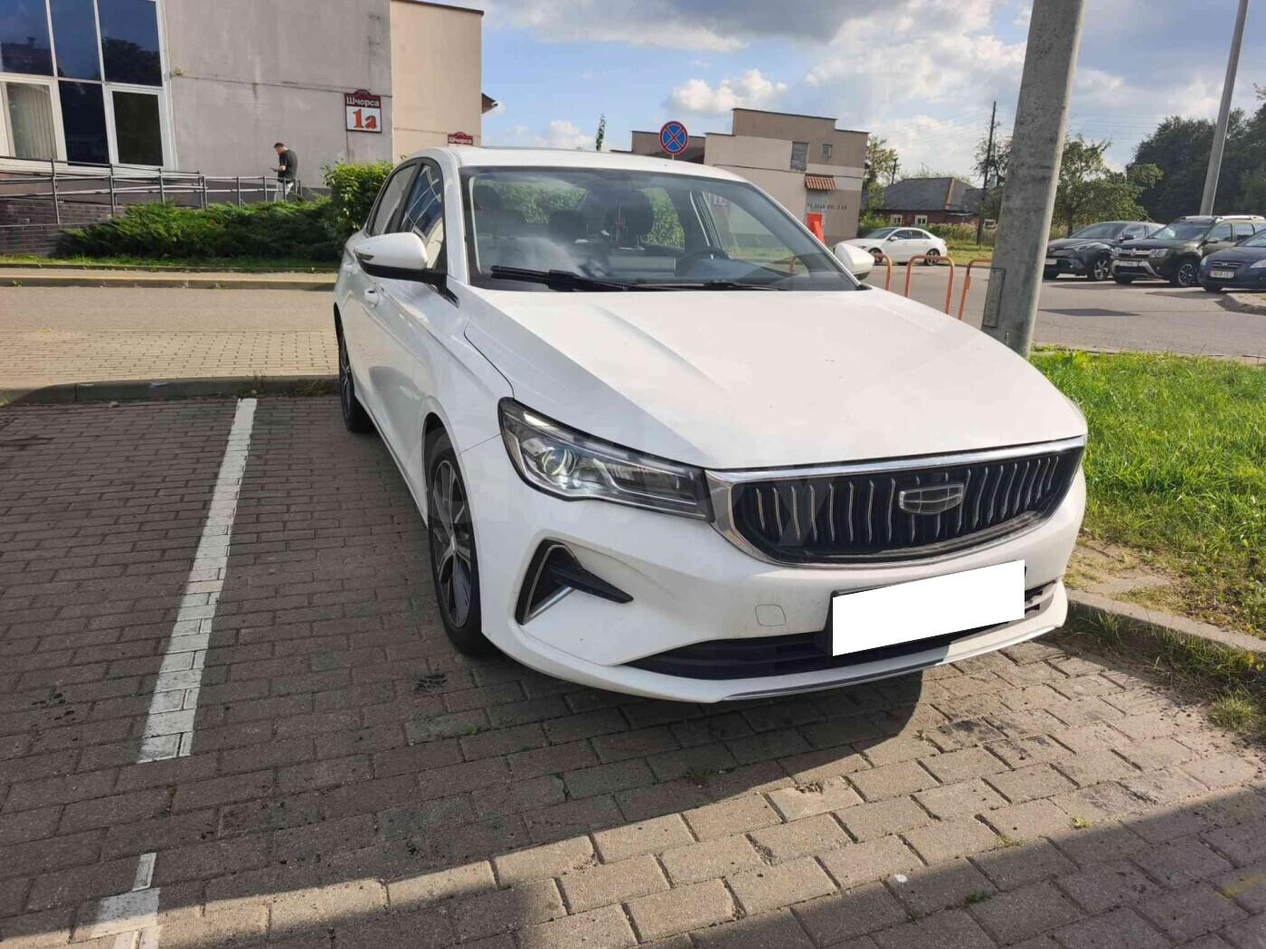Emgrand_2021: (329, 143, 1094, 710)
